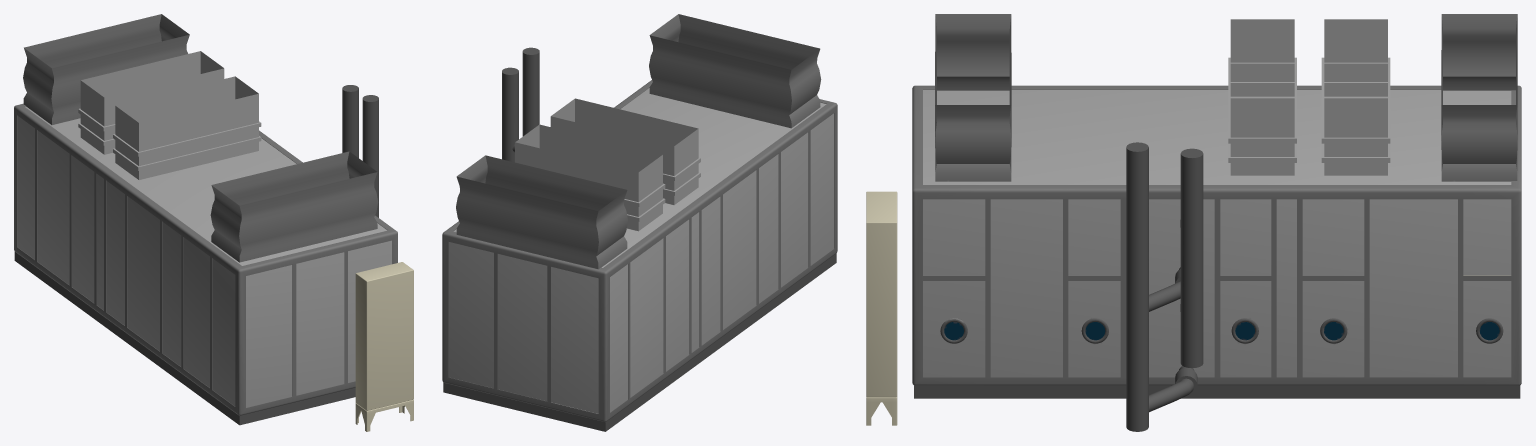
File: AHU.fbx
3 views of the same model, side by side, from view 1: azimuth 30°, elevation 25°; view 2: azimuth 150°, elevation 25°; view 3: azimuth 270°, elevation 25° (orthographic). The views are drawn at different scales.
Visible parts, largest first — view 1: AHU-01; view 2: AHU-01; view 3: AHU-01.
Boxes of the visible parts, x1=… form: AHU-01: x1=14, y1=14, x2=413, y2=431; AHU-01: x1=442, y1=14, x2=837, y2=431; AHU-01: x1=866, y1=14, x2=1521, y2=431.
Size of the model in its own units: 3302 by 3325 by 6250.
